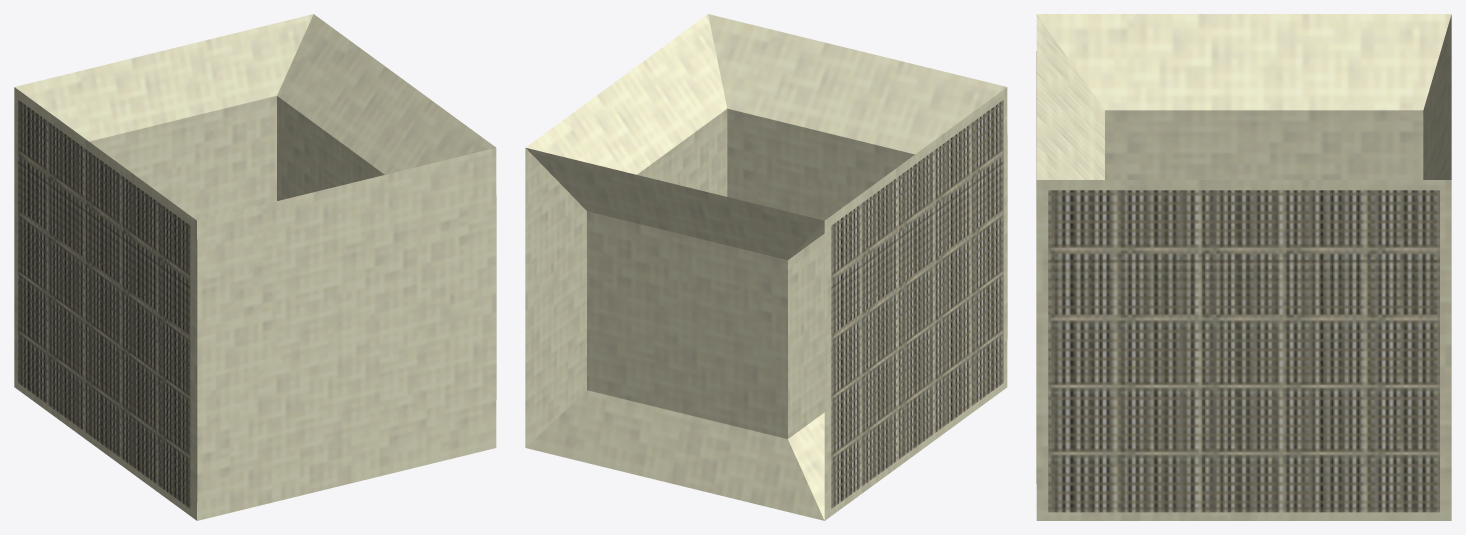
The model's file is grandarchladefense_wtf.obj.
3 views of the same model, side by side, from view 1: azimuth 30°, elevation 25°; view 2: azimuth 150°, elevation 25°; view 3: azimuth 270°, elevation 25° (orthographic). The views are drawn at different scales.
Parts seen in each view (by area): view 1: group3, group4; view 2: group3, group4; view 3: group4, group3.
Part boxes in pixels (x1,y1,x2,y2): group3: (14,14,496,520); group4: (18,100,190,508); group3: (525,14,1007,520); group4: (831,100,1003,508); group4: (1048,190,1439,512); group3: (1036,14,1451,520).
Size of the model in its own units: 630 by 598 by 660.
